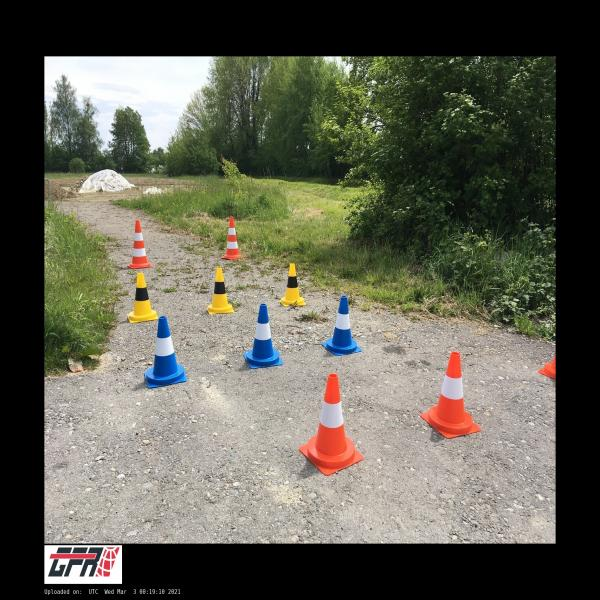blue_cone: (144, 316, 187, 388), (244, 304, 284, 369), (321, 295, 362, 356)
large_orange_cone: (127, 220, 153, 269), (220, 217, 244, 260)
orange_cone: (299, 373, 364, 476), (420, 351, 481, 439), (538, 354, 556, 379)
yellow_cone: (128, 273, 158, 323), (206, 268, 234, 314), (279, 263, 306, 306)
